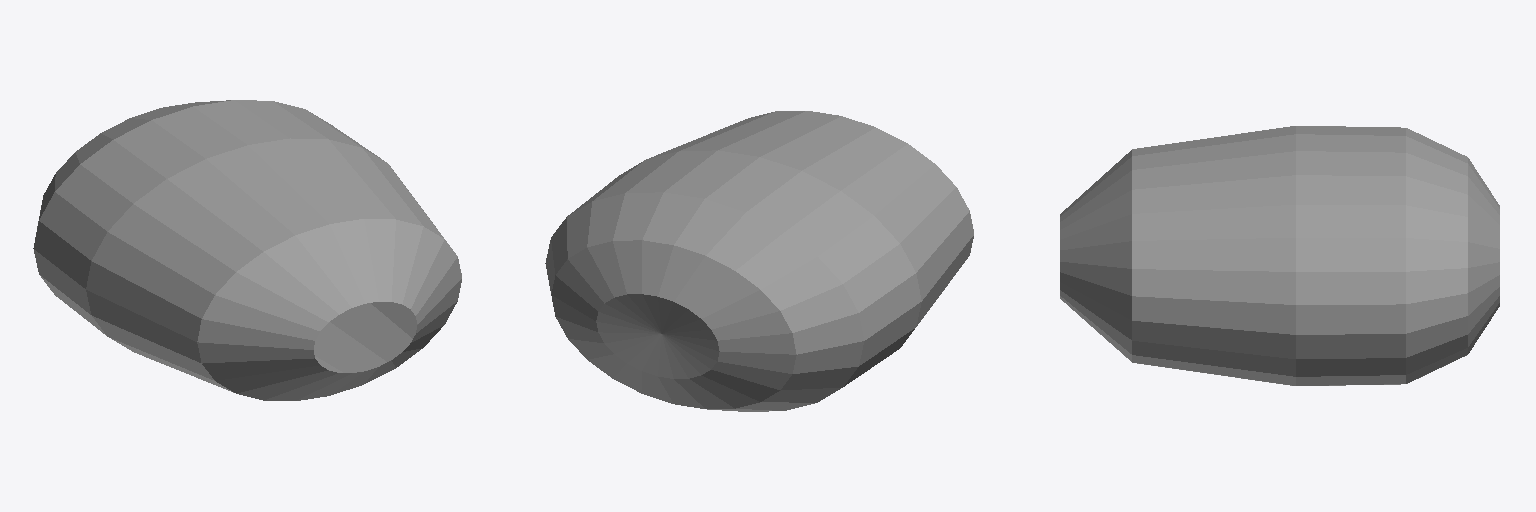
The model's file is torso.obj.
3 renders of one model, left to right at view 1: azimuth 30°, elevation 25°; view 2: azimuth 150°, elevation 25°; view 3: azimuth 270°, elevation 25°, orthographic.
Visible parts, largest first — view 1: Sphere; view 2: Sphere; view 3: Sphere.
Boxes of the visible parts, x1,y1,x2,y2 form: Sphere: [33, 100, 461, 400]; Sphere: [545, 111, 973, 411]; Sphere: [1060, 126, 1499, 385].
Size of the model in its own units: 16.88 by 10.45 by 19.87.